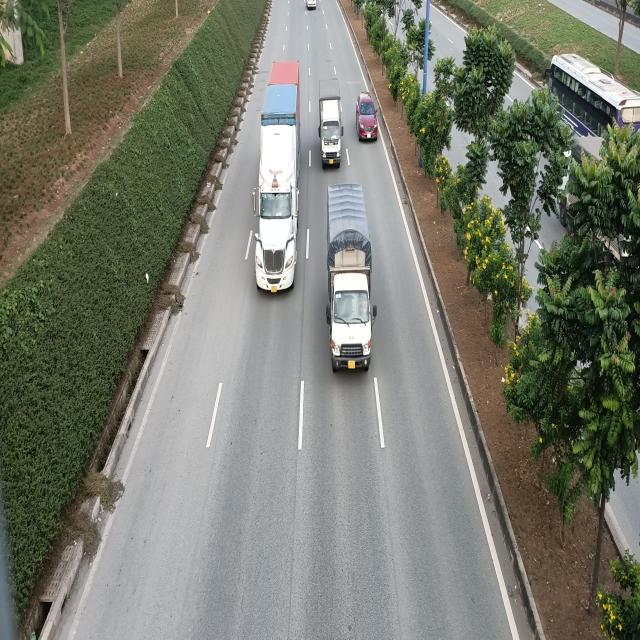car: (355, 91, 377, 140)
container: (252, 59, 300, 294)
truck: (326, 183, 377, 372), (318, 77, 343, 170)
